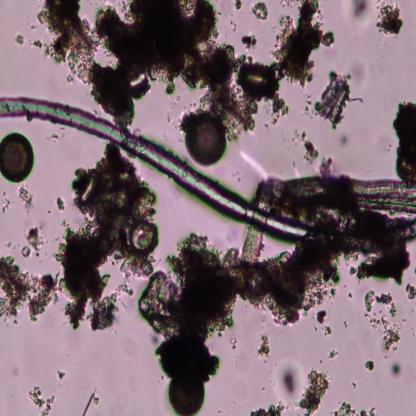Background material: (36, 0, 213, 121), (53, 140, 156, 329), (240, 231, 416, 325), (139, 232, 242, 380), (206, 32, 288, 131), (275, 0, 336, 86), (250, 356, 331, 415), (0, 254, 59, 326), (360, 289, 403, 355), (296, 126, 335, 177), (394, 98, 416, 182), (374, 2, 406, 40), (347, 0, 376, 30), (27, 386, 57, 414), (22, 227, 46, 256), (331, 400, 377, 415), (312, 305, 332, 335), (82, 387, 100, 416), (18, 186, 36, 211), (256, 333, 272, 360), (250, 1, 270, 22), (240, 31, 256, 50), (30, 34, 47, 51), (404, 280, 416, 302), (388, 363, 402, 380), (327, 347, 341, 362), (56, 196, 66, 212), (56, 368, 67, 382), (15, 31, 24, 48), (363, 360, 375, 372), (342, 314, 349, 329), (348, 288, 354, 302), (352, 382, 357, 390)
Cellulose filter fibre: (277, 176, 416, 220)
Diatom: (186, 115, 226, 166), (0, 130, 36, 186), (166, 376, 207, 416), (317, 74, 351, 121), (127, 219, 159, 255)
Hair textile: (0, 97, 312, 244)
